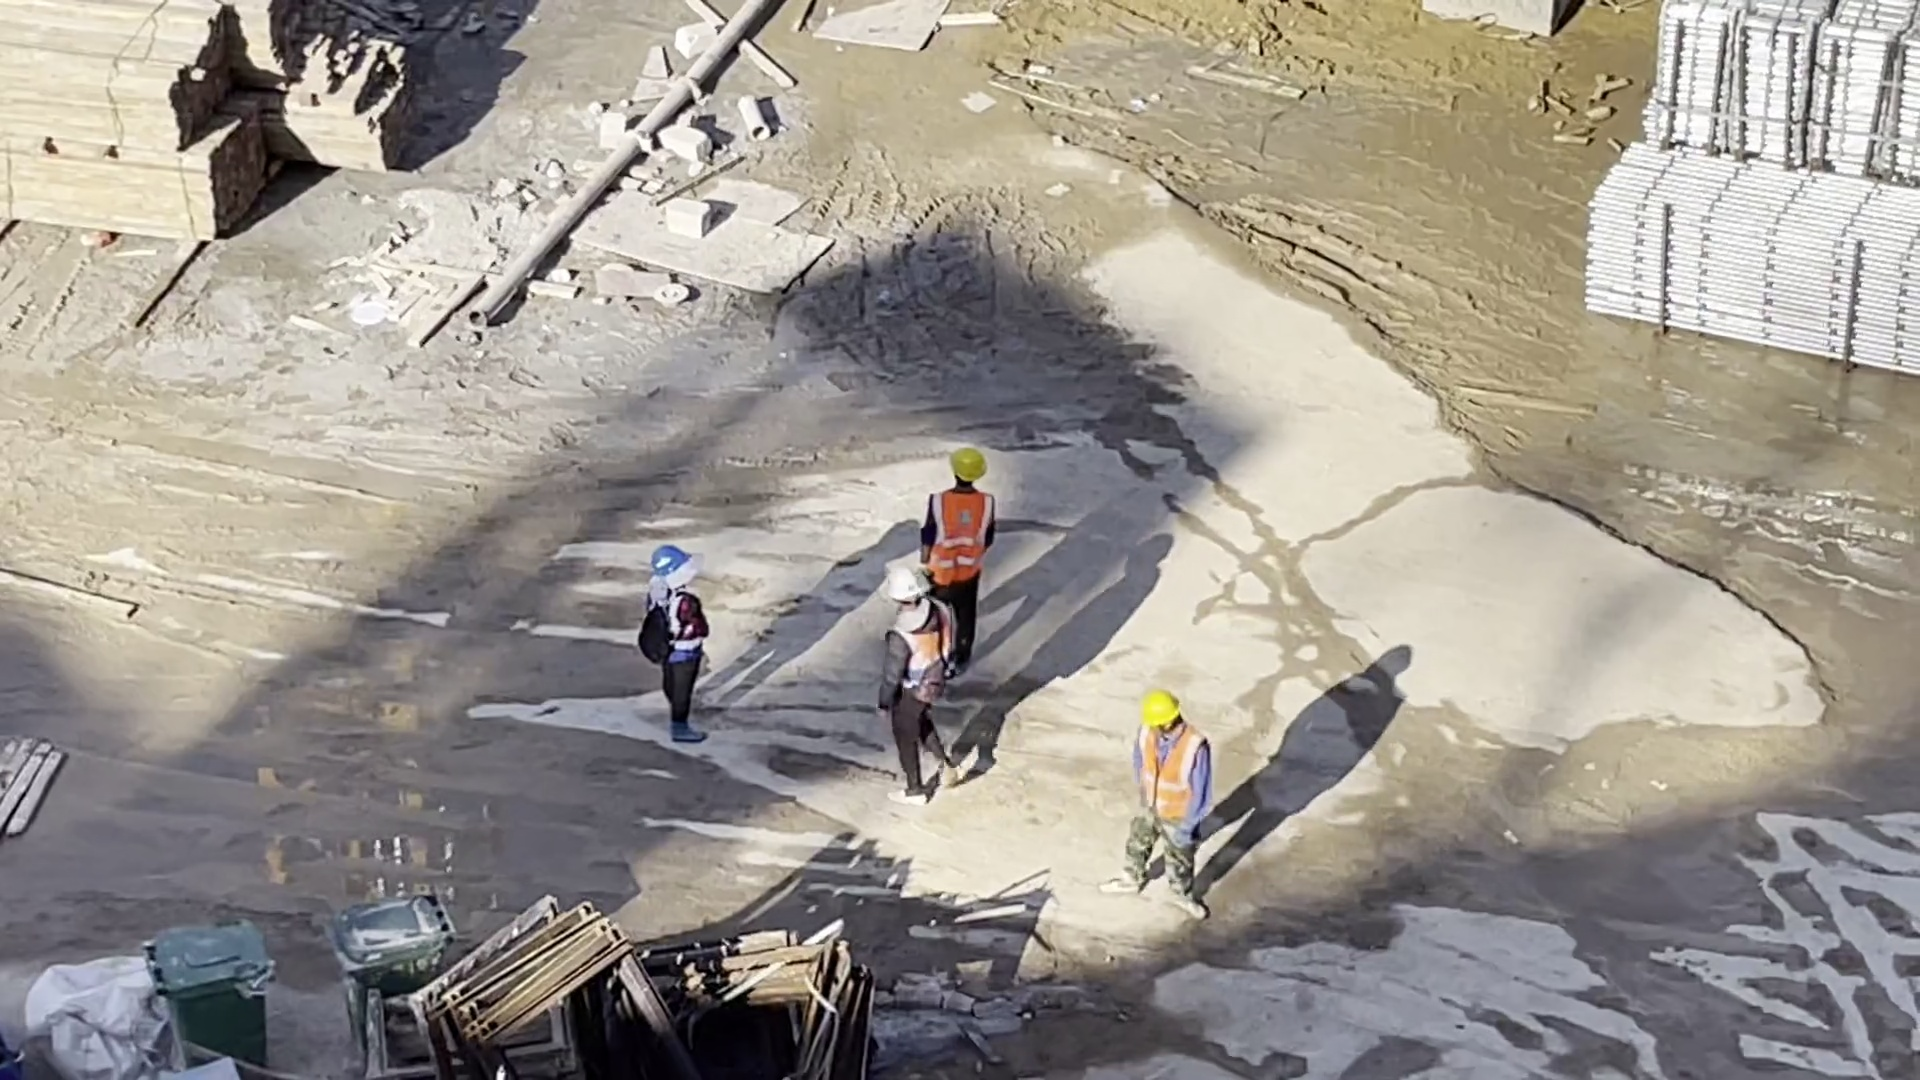helmet: (1142, 688, 1182, 729), (885, 568, 929, 603), (652, 546, 690, 577), (952, 446, 983, 483)
person: (874, 570, 963, 814), (1123, 687, 1213, 908), (926, 450, 987, 673), (650, 545, 715, 745)
scaffold: (1588, 143, 1920, 369), (1651, 1, 1920, 179)
vest: (1143, 724, 1202, 826), (932, 492, 989, 580), (894, 622, 951, 677), (661, 592, 702, 666)
wood: (1, 1, 283, 243)
